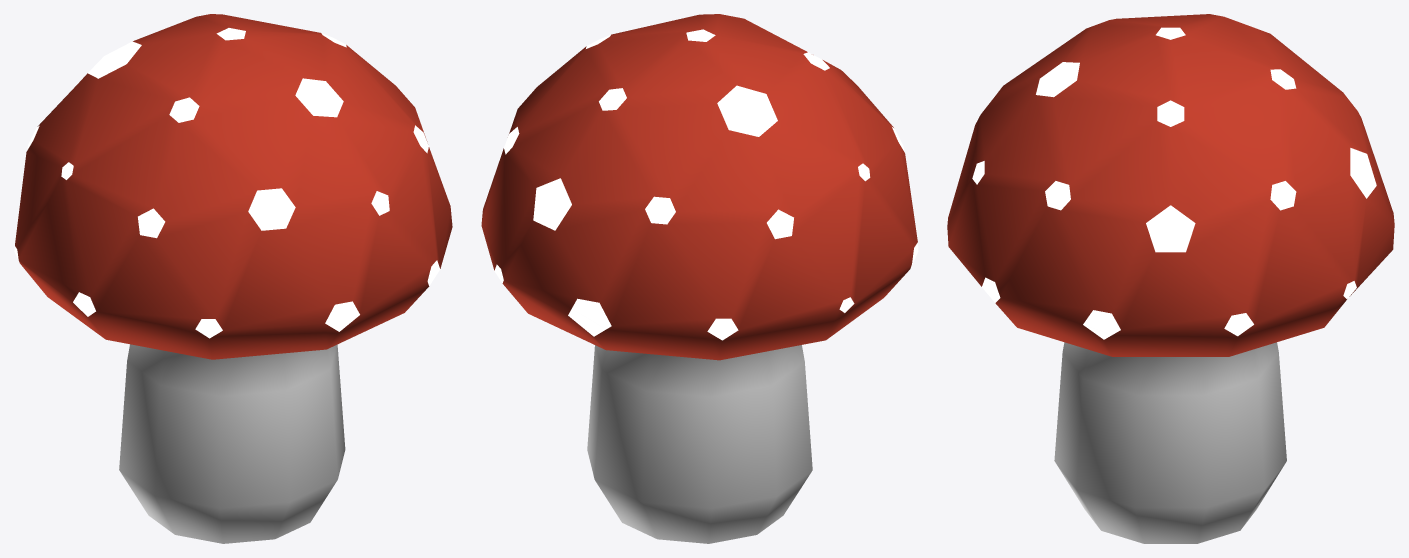
The model's file is mushroomWithDotsBig.glb.
3 renders of one model, left to right at view 1: azimuth 30°, elevation 25°; view 2: azimuth 150°, elevation 25°; view 3: azimuth 270°, elevation 25°, orthographic.
Visible parts, largest first — view 1: MushroomWithDotsBig; view 2: MushroomWithDotsBig; view 3: MushroomWithDotsBig.
Part boxes in pixels (x1,y1,x2,y2): MushroomWithDotsBig: (14, 14, 452, 543); MushroomWithDotsBig: (481, 14, 918, 543); MushroomWithDotsBig: (947, 14, 1394, 543).
Bounding box in the file's own units: 0.4418 × 0.5355 × 0.4559.
2 materials, 1 textured.
